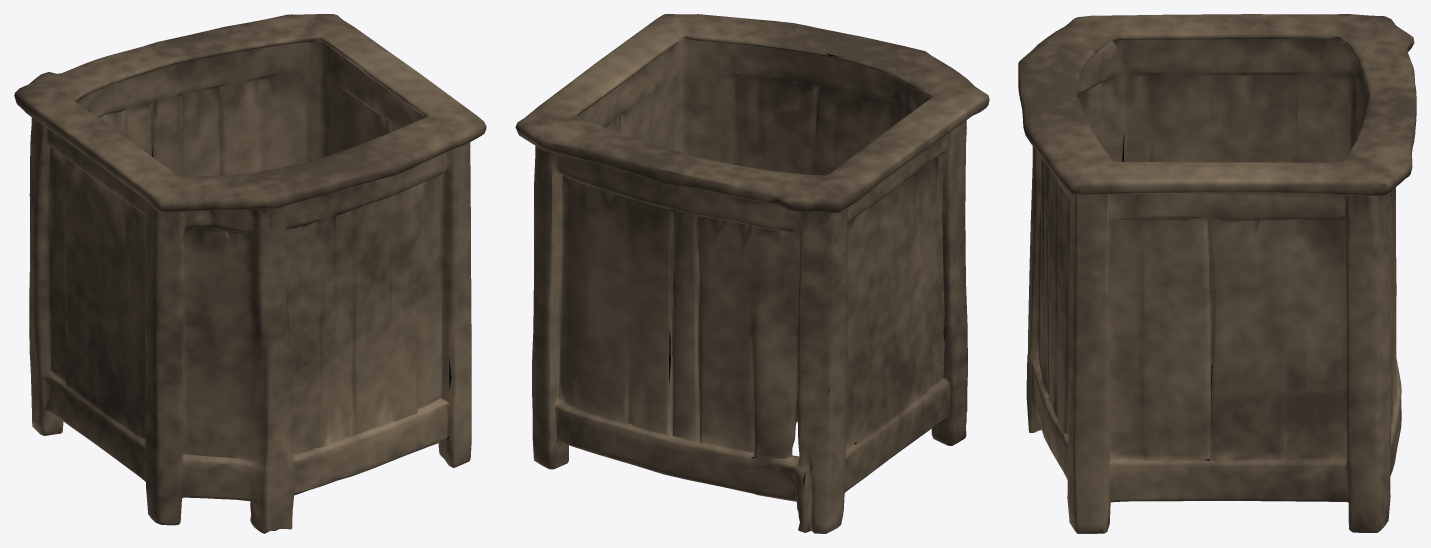
File: wooden-planter-box-v001.glb
3 views of the same model, side by side, from view 1: azimuth 30°, elevation 25°; view 2: azimuth 150°, elevation 25°; view 3: azimuth 270°, elevation 25° (orthographic). The views are drawn at different scales.
Visible parts, largest first — view 1: wooden-planter-box; view 2: wooden-planter-box; view 3: wooden-planter-box.
Part boxes in pixels (x1=…): wooden-planter-box: x1=14, y1=14, x2=486, y2=533; wooden-planter-box: x1=515, y1=14, x2=989, y2=533; wooden-planter-box: x1=1018, y1=14, x2=1416, y2=533.
Bounding box in the file's own units: 0.4958 × 0.5003 × 0.4945.
1 material, 1 textured.
